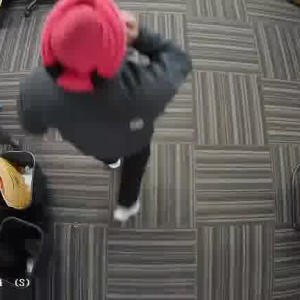person: (26, 6, 175, 182)
